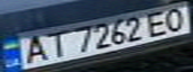2: (90, 18, 115, 51), (124, 12, 148, 43)
6: (109, 16, 130, 47)
7: (69, 21, 97, 54)
A: (15, 33, 54, 65)
E: (142, 7, 175, 37)
O: (157, 4, 193, 33)
T: (39, 29, 72, 60)
